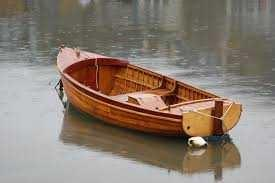kayak: (56, 46, 243, 140)
